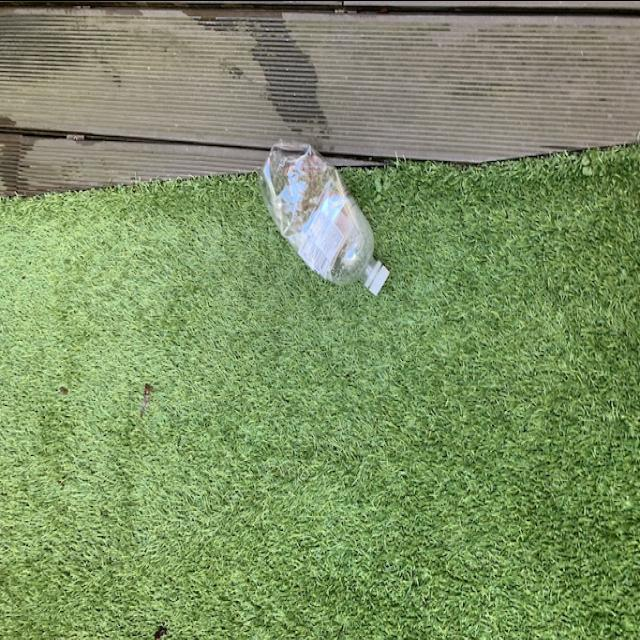litter: (260, 140, 398, 298)
